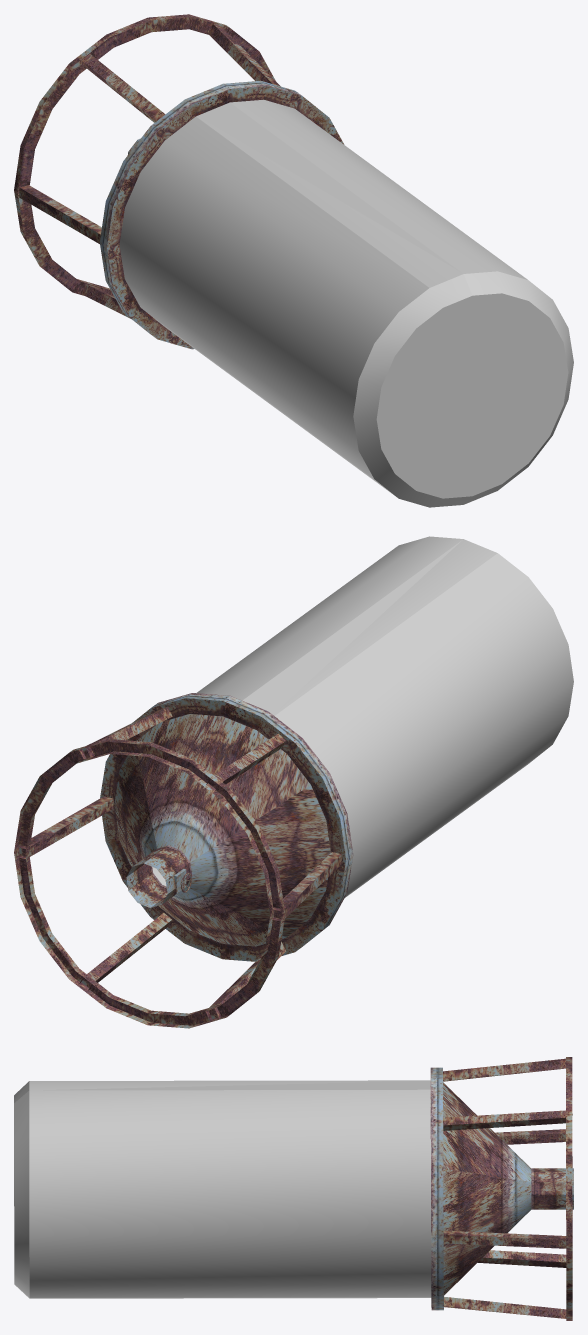
The model's file is silo_2.fbx.
3 views of the same model, one above another, from view 1: azimuth 30°, elevation 25°; view 2: azimuth 150°, elevation 25°; view 3: azimuth 270°, elevation 25° (orthographic). The views are drawn at different scales.
Parts seen in each view (by area): view 1: Object011; view 2: Object011; view 3: Object011.
Part boxes in pixels (x1,y1,x2,y2): Object011: [14, 14, 573, 507]; Object011: [14, 536, 573, 1028]; Object011: [14, 1057, 573, 1320].
Bounding box in the file's own units: 4.19 × 4.19 × 8.82.
